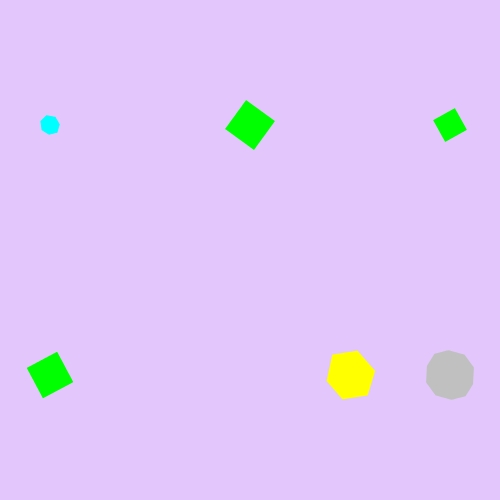decagon: (421, 348, 480, 402)
heptagon: (36, 111, 65, 139)
hexagon: (320, 350, 380, 400)
quadrilateral: (222, 97, 279, 154), (23, 348, 78, 403), (429, 104, 471, 146)
